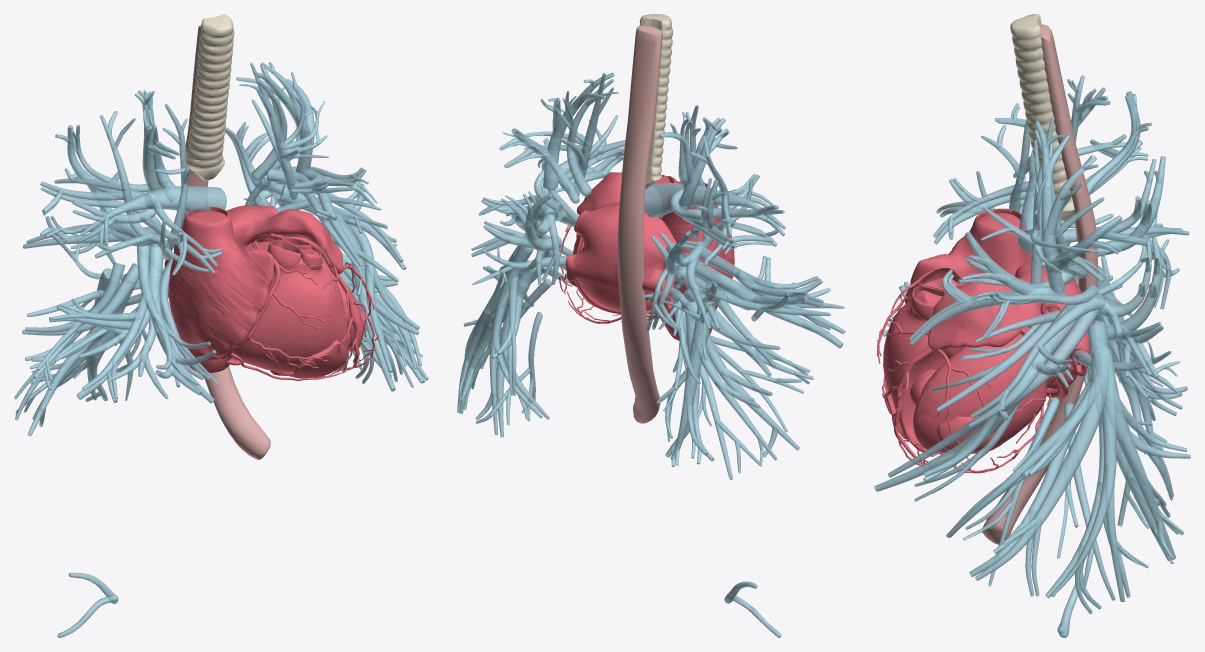
Rendered from male-classified-thorax.glb.
3 views of the same model, side by side, from view 1: azimuth 30°, elevation 25°; view 2: azimuth 150°, elevation 25°; view 3: azimuth 270°, elevation 25° (orthographic). The views are drawn at different scales.
Visible parts, largest first — view 1: FMA7309, FMA7088, FMA7310, FMA7394, FMA7131; view 2: FMA7309, FMA7310, FMA7131, FMA7088, FMA7394; view 3: FMA7310, FMA7088, FMA7309, FMA7131, FMA7394.
Boxes of the visible parts, box(x1,y1,x2,y2) form: FMA7309: box(14, 90, 226, 637); FMA7088: box(164, 205, 378, 380); FMA7310: box(225, 62, 428, 391); FMA7394: box(186, 14, 234, 180); FMA7131: box(181, 25, 270, 459); FMA7309: box(644, 105, 845, 637); FMA7310: box(457, 72, 625, 437); FMA7131: box(617, 25, 662, 423); FMA7088: box(559, 172, 734, 340); FMA7394: box(620, 14, 673, 189); FMA7310: box(874, 116, 1190, 613); FMA7088: box(877, 208, 1090, 473); FMA7309: box(883, 75, 1189, 637); FMA7131: box(982, 24, 1098, 544); FMA7394: box(1010, 14, 1074, 221).
Size of the model in its own units: 0.242 by 0.3808 by 0.1576.
